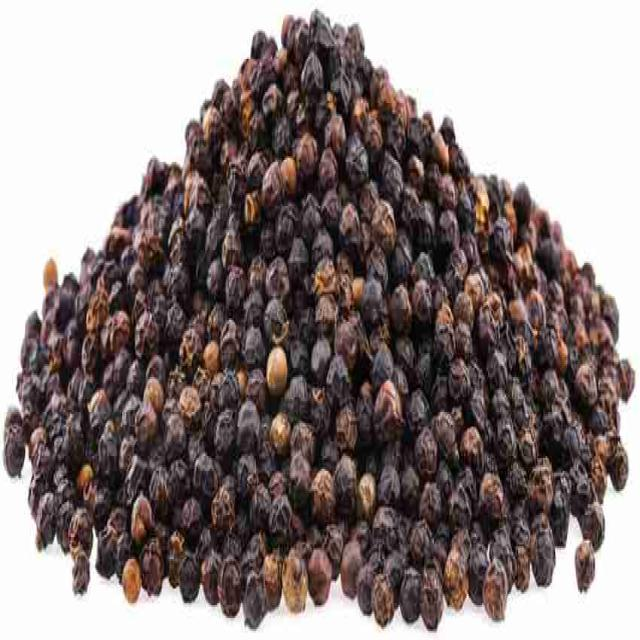Black pepper: (7, 18, 640, 639), (150, 210, 534, 554)
